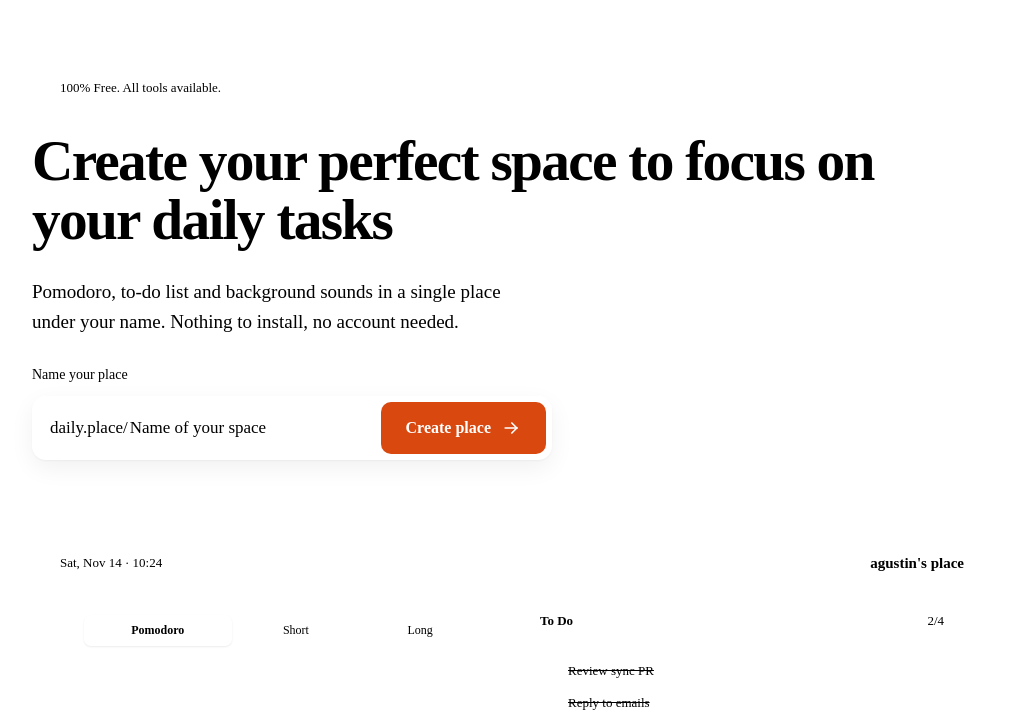
Test case: <Home /> › shows an error instead of opening a place with an invalid name
Type "a/b" into the field labelled "Name your place" at (250, 428), box x1=128 y1=404 x2=372 y2=452
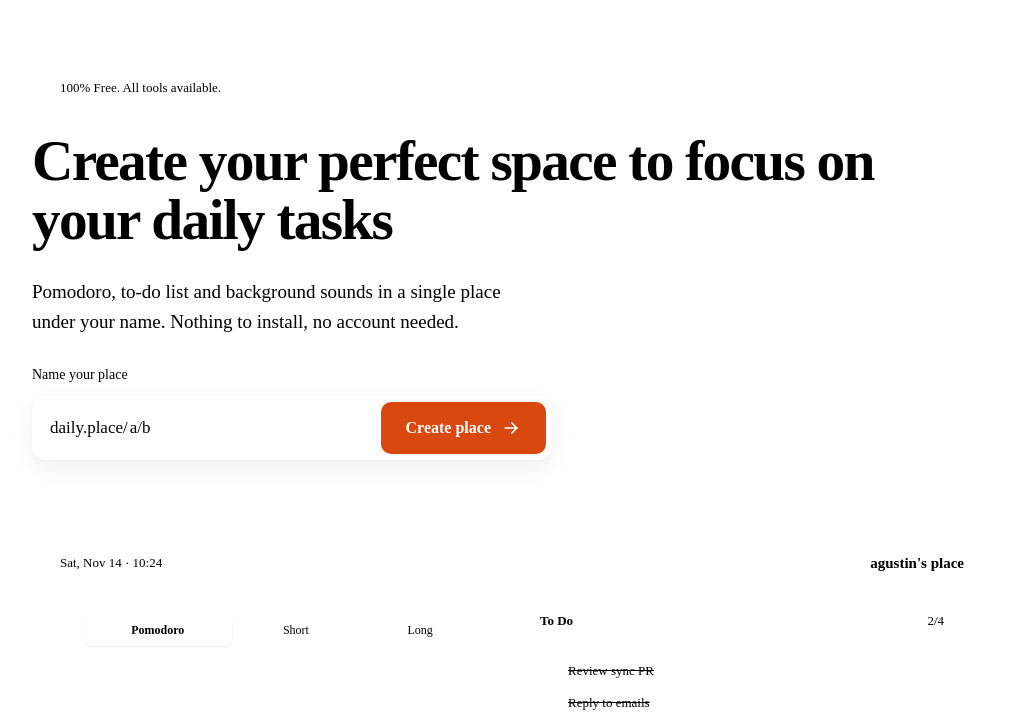
Click the button "Create place" at (463, 428), box x1=380 y1=402 x2=546 y2=454
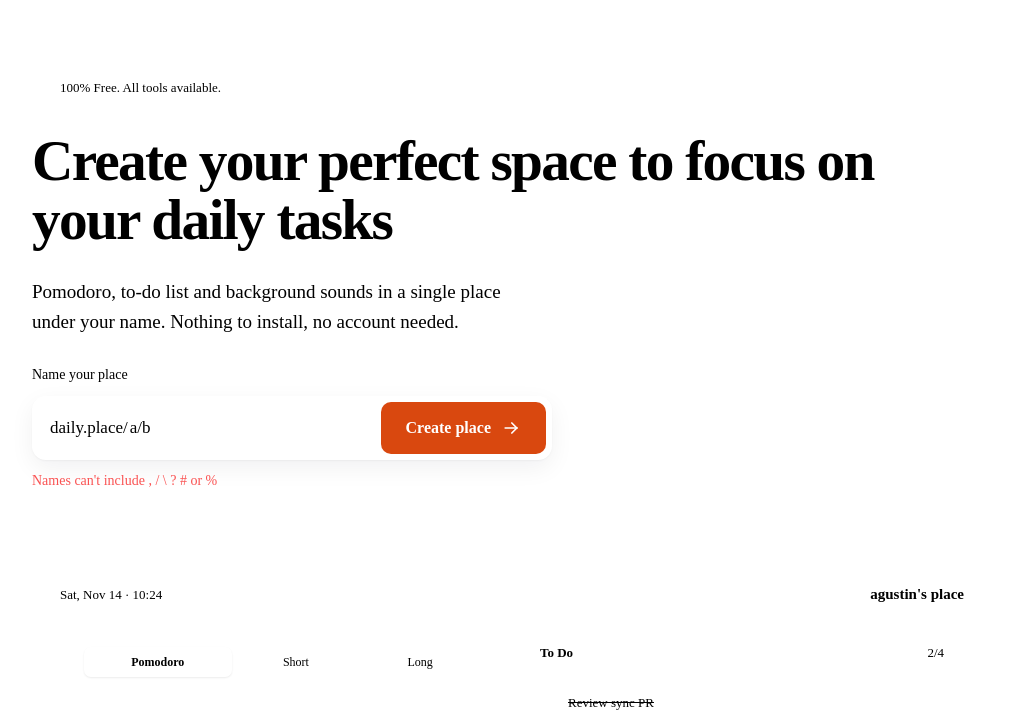
Check: the message reads "Names can't include , / \\ ? # or %", box x1=32 y1=473 x2=217 y2=488
